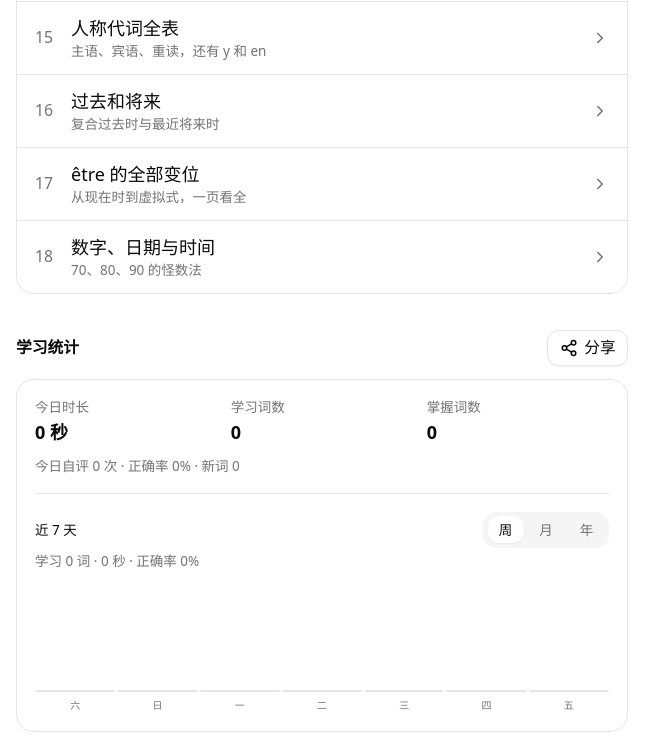
Test: 选词表页 › 周月年三个区间都能切，柱子数量跟着变
(page scrolled)
Expected: the heading "学习统计" is shown, [16,336,79,359]
Click the radio button labelled "月" at (546, 530), box [528,516,564,543]
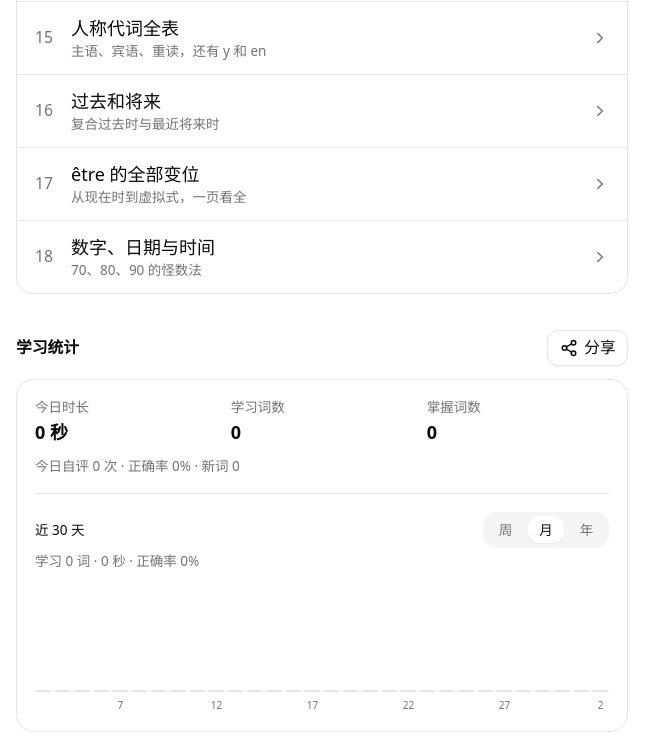
Now the number of buttons named "9 月 3 日 周四，学习 0 词" is 30
Click the radio button labelled "年" at (586, 530), box [568,516,604,543]
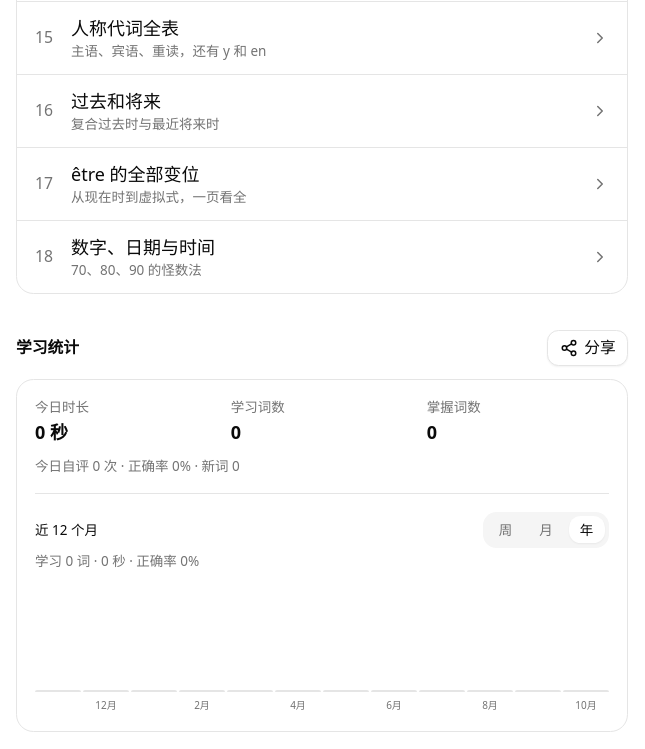
Now the number of buttons named "2025 年 11 月，学习 0 词" is 12
